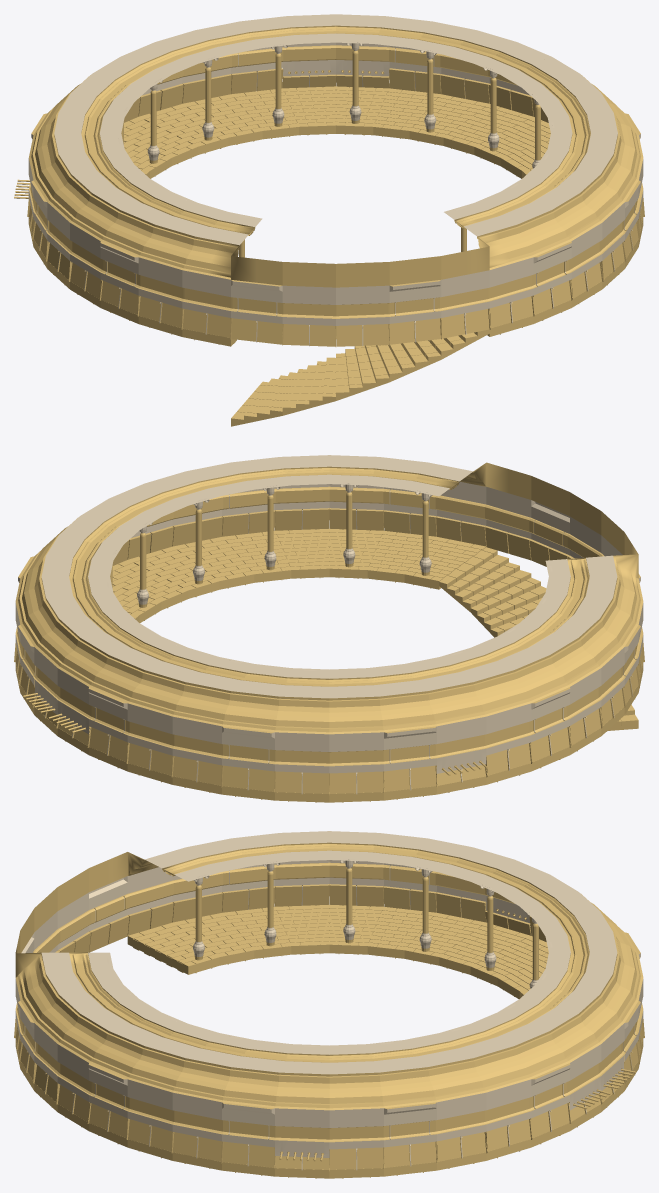
Rendered from atina.fbx.
3 views of the same model, one above another, from view 1: azimuth 30°, elevation 25°; view 2: azimuth 150°, elevation 25°; view 3: azimuth 270°, elevation 25° (orthographic). The views are drawn at different scales.
Visible parts, largest first — view 1: Cylinder.003; view 2: Cylinder.003; view 3: Cylinder.003.
Part boxes in pixels (x1,y1,x2,y2): Cylinder.003: (14, 14, 644, 426); Cylinder.003: (14, 455, 644, 802); Cylinder.003: (14, 831, 644, 1178).
Size of the model in its own units: 4106 by 1230 by 4020.
